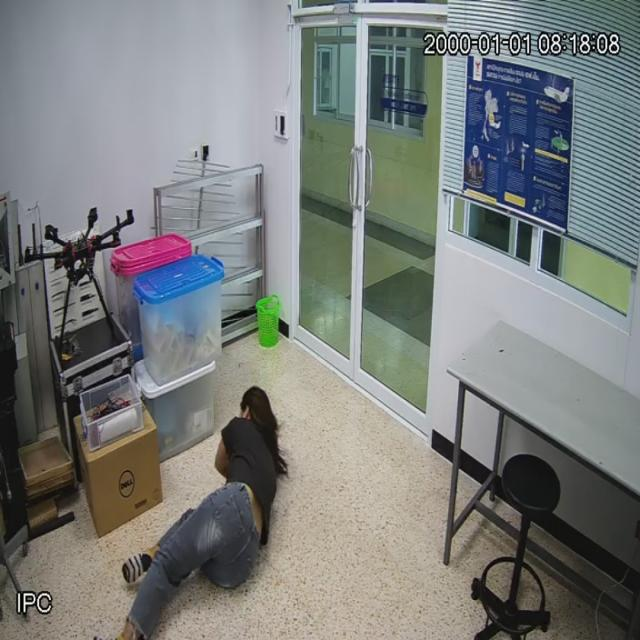fall: (105, 382, 306, 640)
